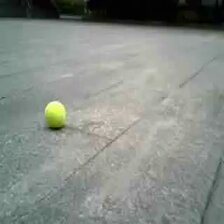tennis: (45, 101, 65, 126)
